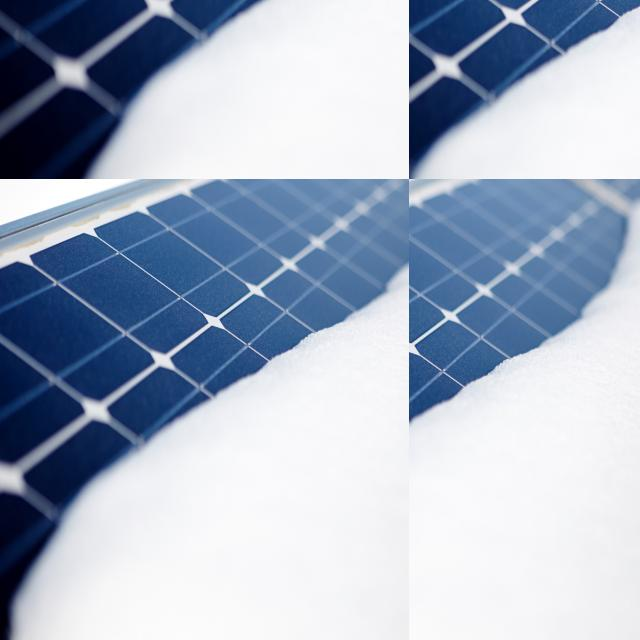dust: (190, 193, 374, 301), (306, 476, 409, 640), (0, 372, 99, 539), (175, 312, 302, 407), (0, 179, 50, 268), (409, 0, 427, 32), (409, 0, 421, 39), (409, 0, 424, 26), (409, 0, 422, 30), (409, 0, 421, 24), (409, 0, 428, 15), (409, 0, 426, 15), (409, 0, 424, 17), (409, 0, 420, 20), (409, 0, 423, 15), (409, 0, 419, 20), (409, 0, 419, 18), (409, 0, 418, 19), (409, 0, 420, 14), (409, 0, 418, 17), (409, 0, 418, 15), (409, 0, 415, 8)
panel: (409, 293, 554, 494), (409, 400, 495, 640), (493, 318, 633, 432), (409, 429, 497, 560), (409, 193, 473, 288), (596, 205, 640, 340), (601, 179, 640, 327), (409, 179, 586, 209), (409, 179, 466, 263)
